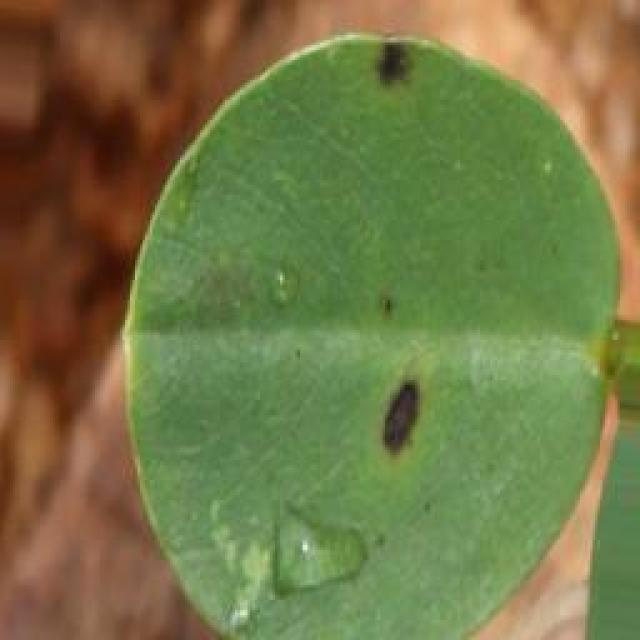Yellowish: (301, 238, 490, 477), (307, 0, 493, 152)
